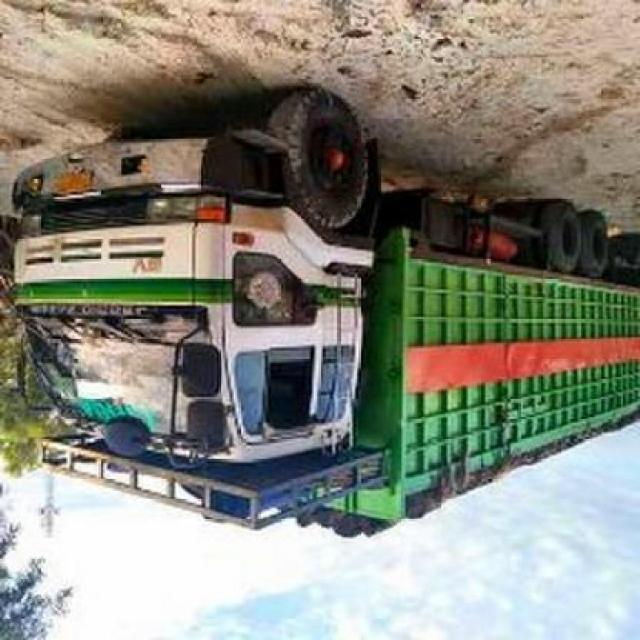truck: (11, 88, 640, 542)
